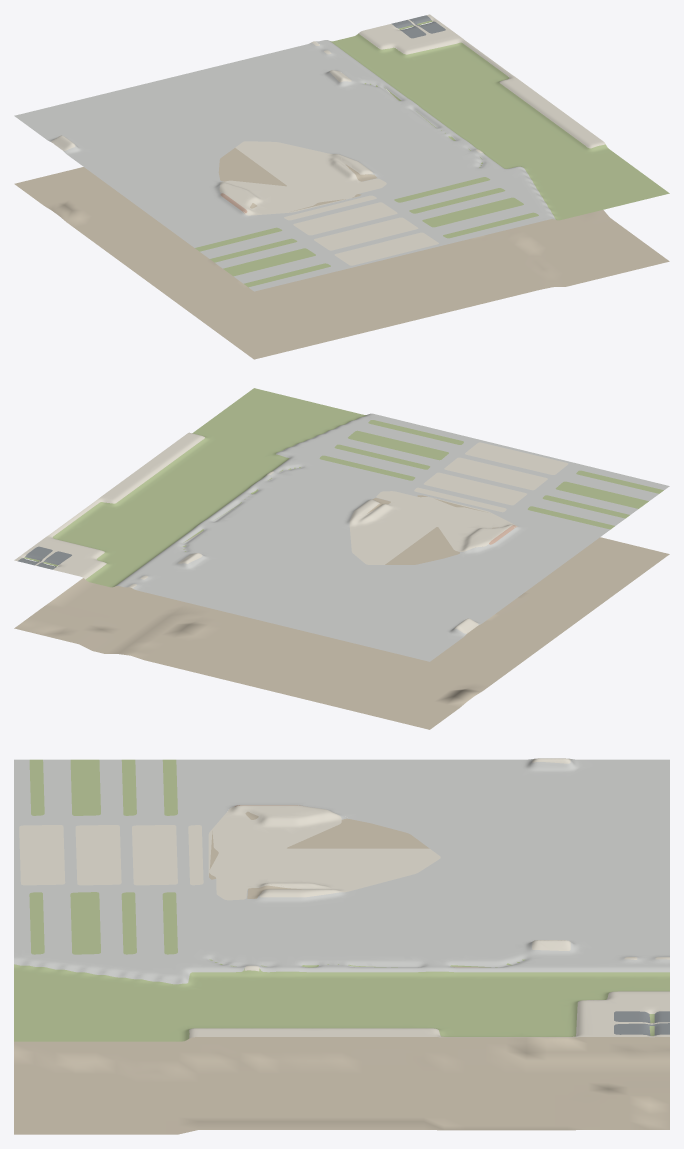
3 views of the same model, one above another, from view 1: azimuth 30°, elevation 25°; view 2: azimuth 150°, elevation 25°; view 3: azimuth 270°, elevation 25° (orthographic). The views are drawn at different scales.
Parts seen in each view (by area): view 1: s_-1_-4__stone_paving, s_-1_-4__soil, s_-1_-4__grass, s_-1_-4__paving, s_-1_-4__asphalt; view 2: s_-1_-4__stone_paving, s_-1_-4__soil, s_-1_-4__grass, s_-1_-4__paving, s_-1_-4__asphalt; view 3: s_-1_-4__stone_paving, s_-1_-4__soil, s_-1_-4__grass, s_-1_-4__paving, s_-1_-4__asphalt.
Boxes of the visible parts, x1,y1,x2,y2 form: s_-1_-4__stone_paving: [14, 40, 555, 291]; s_-1_-4__soil: [14, 92, 669, 359]; s_-1_-4__grass: [195, 20, 669, 287]; s_-1_-4__paving: [51, 14, 605, 265]; s_-1_-4__asphalt: [391, 15, 445, 38]; s_-1_-4__stone_paving: [115, 413, 669, 661]; s_-1_-4__soil: [14, 495, 669, 729]; s_-1_-4__grass: [24, 388, 663, 587]; s_-1_-4__paving: [14, 432, 568, 633]; s_-1_-4__asphalt: [18, 546, 71, 569]; s_-1_-4__stone_paving: [14, 758, 669, 984]; s_-1_-4__soil: [14, 811, 669, 1134]; s_-1_-4__grass: [14, 759, 669, 1041]; s_-1_-4__paving: [19, 758, 669, 1038]; s_-1_-4__asphalt: [614, 1011, 669, 1035].
Bounding box in the file's own units: 128 × 22.64 × 128.
